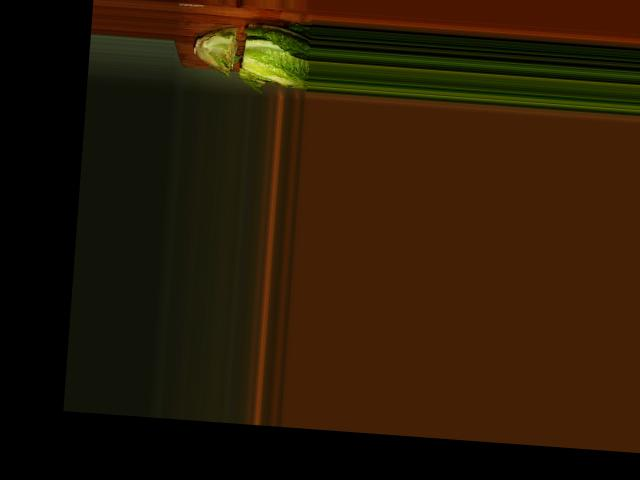lettuce: (192, 12, 311, 93)
